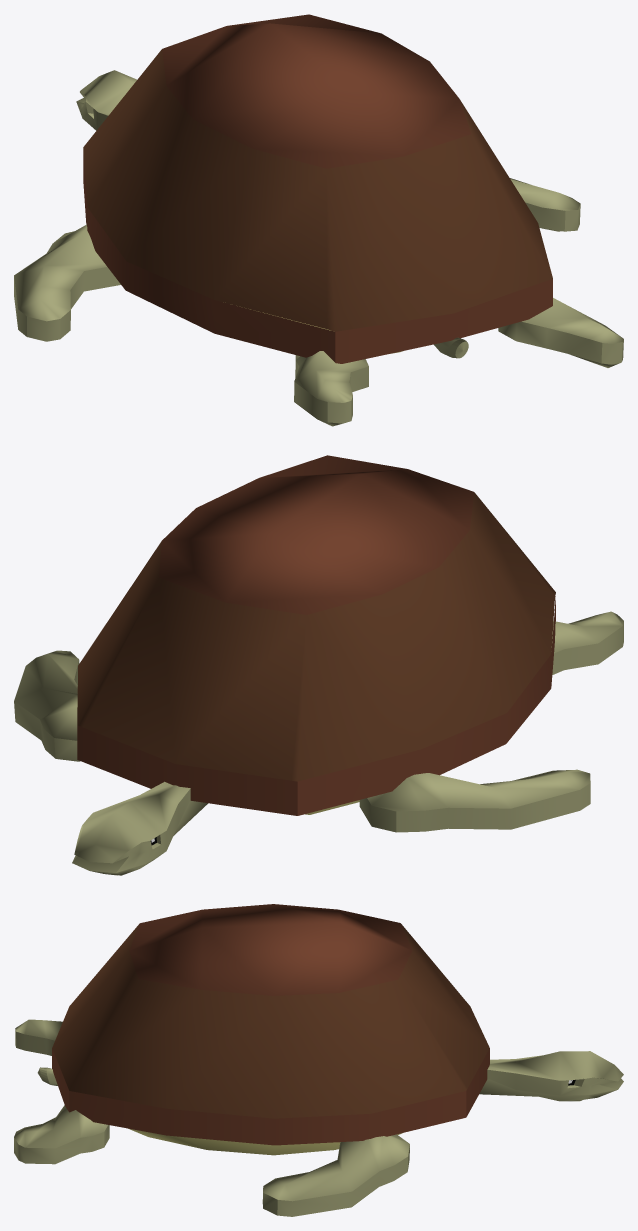
The model's file is animals-turtle-202.glb.
3 renders of one model, top to bottom at view 1: azimuth 30°, elevation 25°; view 2: azimuth 150°, elevation 25°; view 3: azimuth 270°, elevation 25°, orthographic. The views are drawn at different scales.
Parts seen in each view (by area): view 1: Box002; view 2: Box002; view 3: Box002.
Part boxes in pixels (x1,y1,x2,y2): Box002: (14,14,623,426); Box002: (14,455,623,875); Box002: (14,904,623,1216).
Size of the model in its own units: 82.73 by 36.08 by 100.
